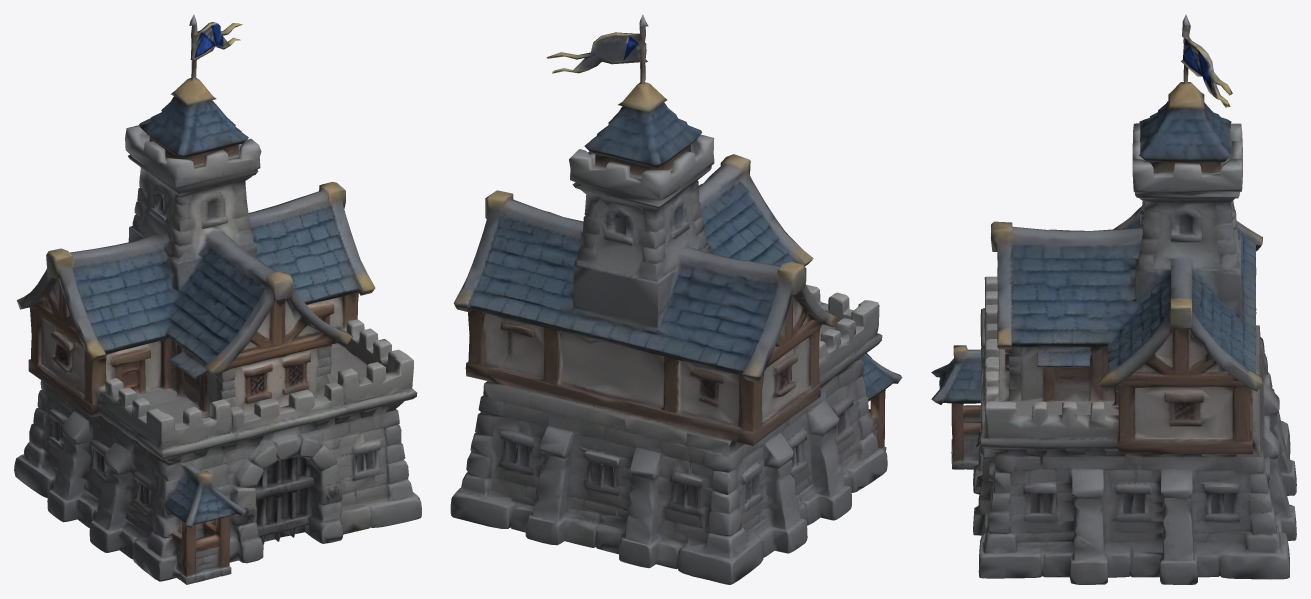
File: hq_human_2.glb
3 renders of one model, left to right at view 1: azimuth 30°, elevation 25°; view 2: azimuth 150°, elevation 25°; view 3: azimuth 270°, elevation 25°, orthographic. The views are drawn at different scales.
Parts seen in each view (by area): view 1: Static_Mesh; view 2: Static_Mesh; view 3: Static_Mesh.
Boxes of the visible parts, x1=… form: Static_Mesh: x1=14, y1=14, x2=421, y2=584; Static_Mesh: x1=450, y1=14, x2=902, y2=584; Static_Mesh: x1=931, y1=14, x2=1296, y2=584.
Bounding box in the file's own units: 8.14 × 12.5 × 8.33.
Materials: 2 (2 with a texture image).
